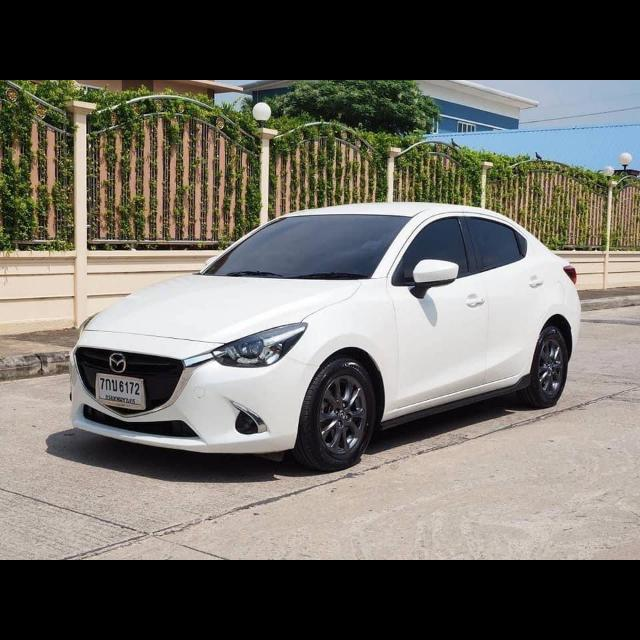cars: (51, 188, 586, 478)
